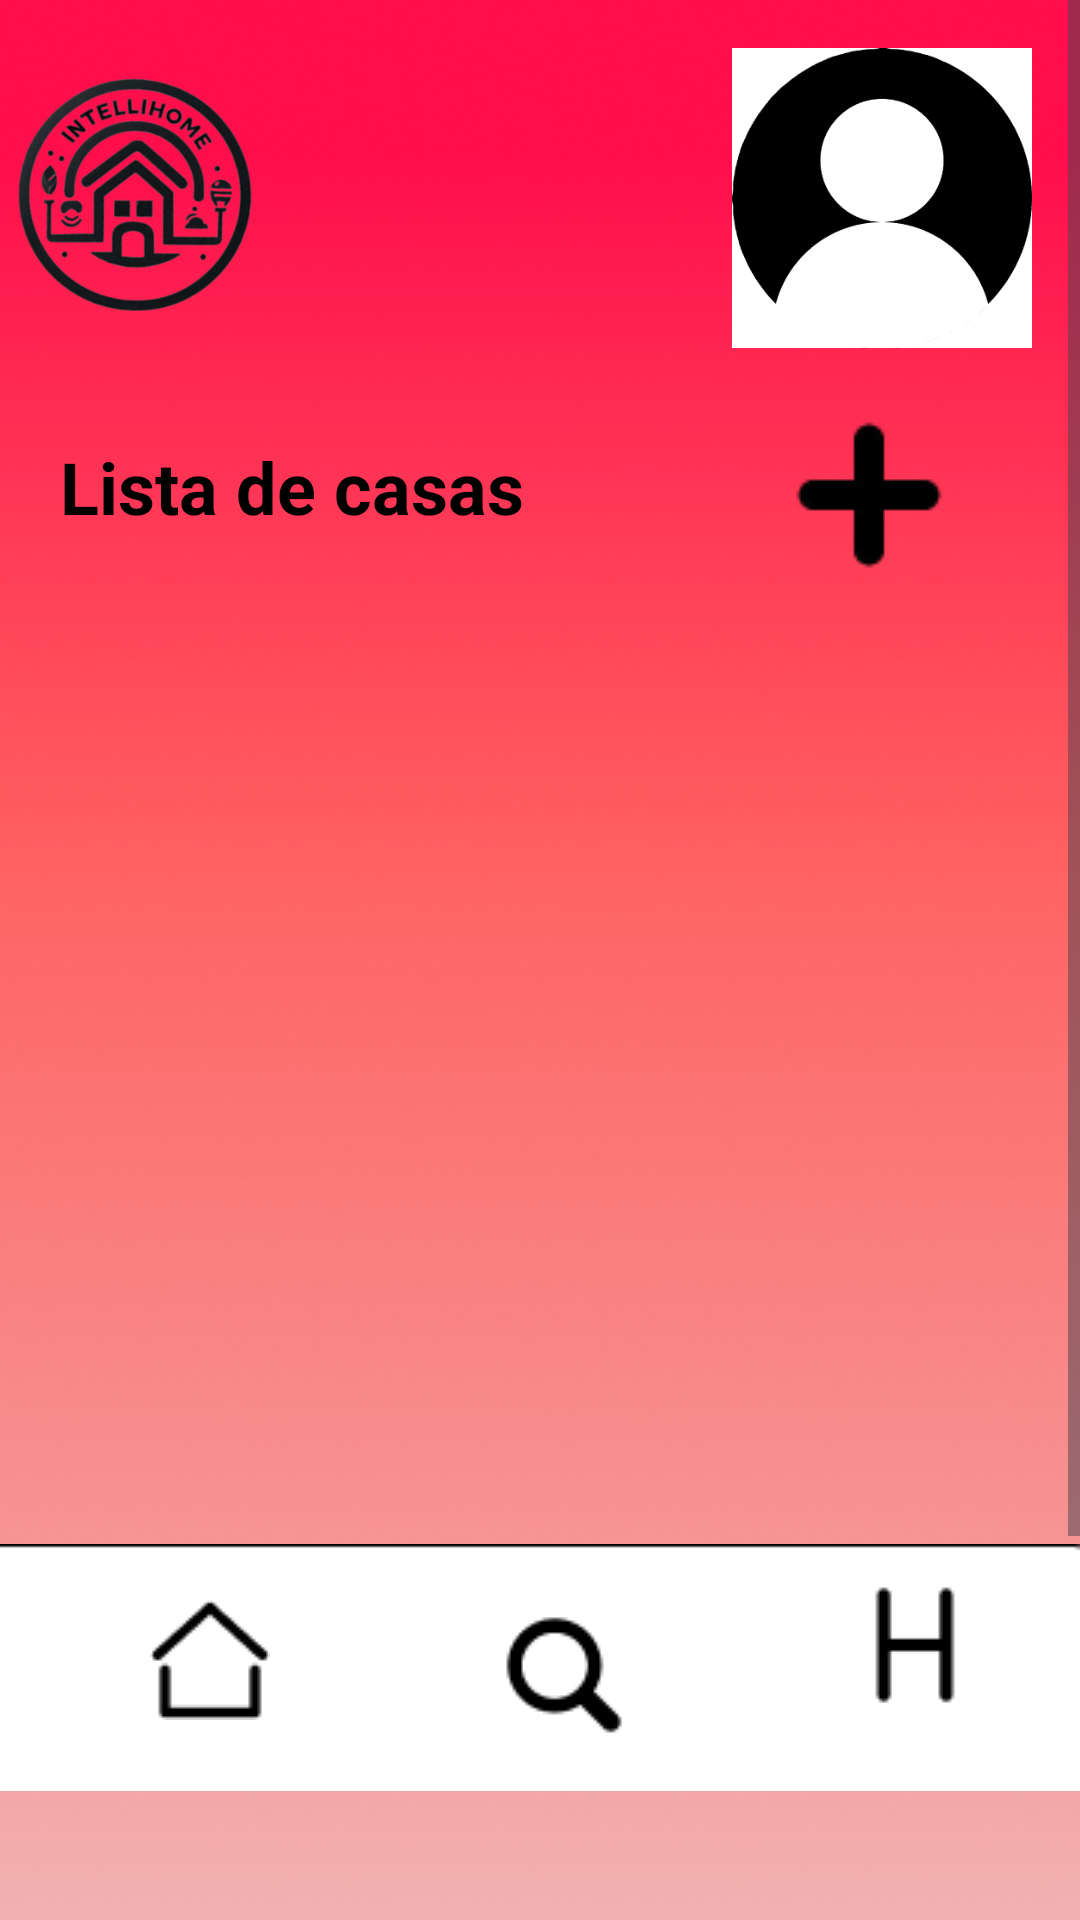

Icon click points for this 1080w x 1920h phone screenshot, format [x,y]:
home menu: [210,1661]
lupa: [564,1675]
perfil: [882,198]
plus sign: [869,511]
